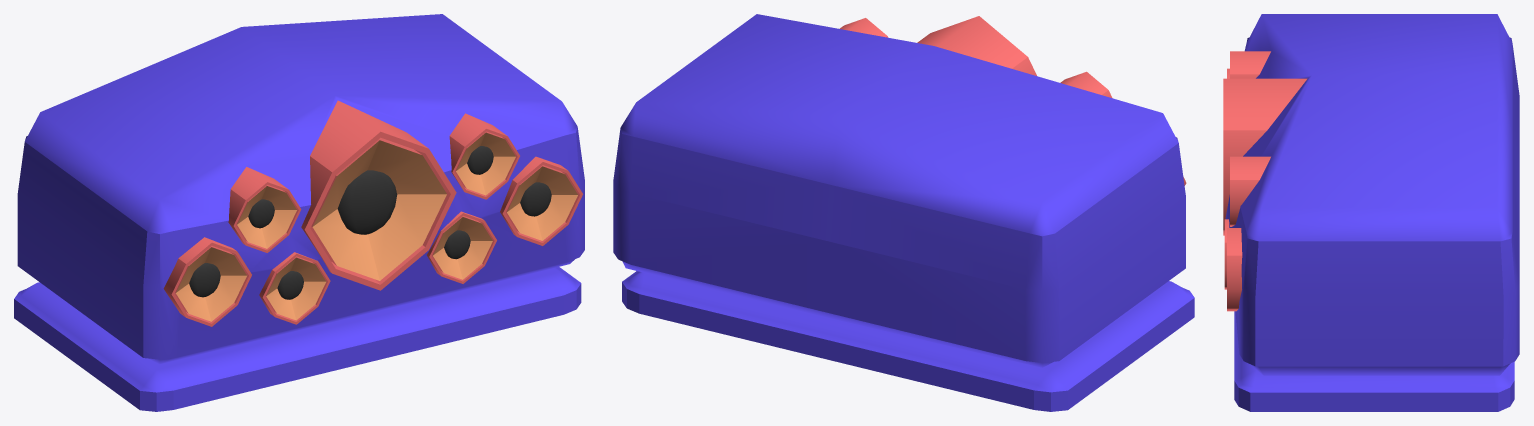
File: buffer_attack.fbx
The picture shows the model from 3 angles, left to right: view 1: azimuth 30°, elevation 25°; view 2: azimuth 150°, elevation 25°; view 3: azimuth 270°, elevation 25°; orthographic projection. The views are drawn at different scales.
Parts seen in each view (by area): view 1: buffer, platform; view 2: buffer, platform; view 3: buffer, platform.
Boxes of the visible parts, bbox=[...] form: buffer: bbox=[17, 14, 584, 364]; platform: bbox=[14, 267, 581, 411]; buffer: bbox=[613, 14, 1186, 367]; platform: bbox=[622, 271, 1194, 411]; buffer: bbox=[1223, 14, 1519, 375]; platform: bbox=[1234, 311, 1514, 411].
Size of the model in its own units: 2.77 by 1.4 by 1.61.
